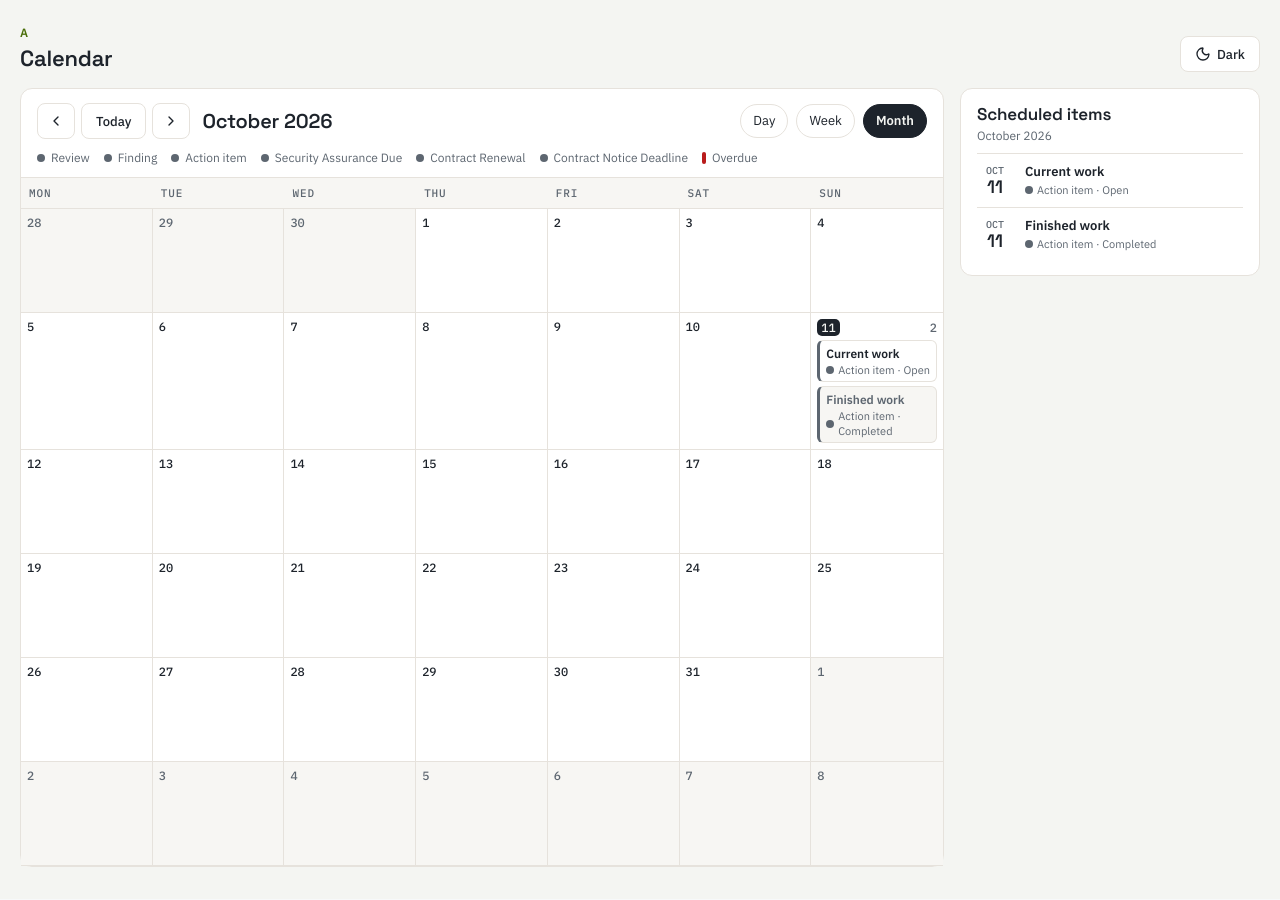
Scenario: Today retains Day and Week views, arrows advance the selected unit
Click the button "Day" at (764, 121), box left=740, top=104, right=788, bottom=138
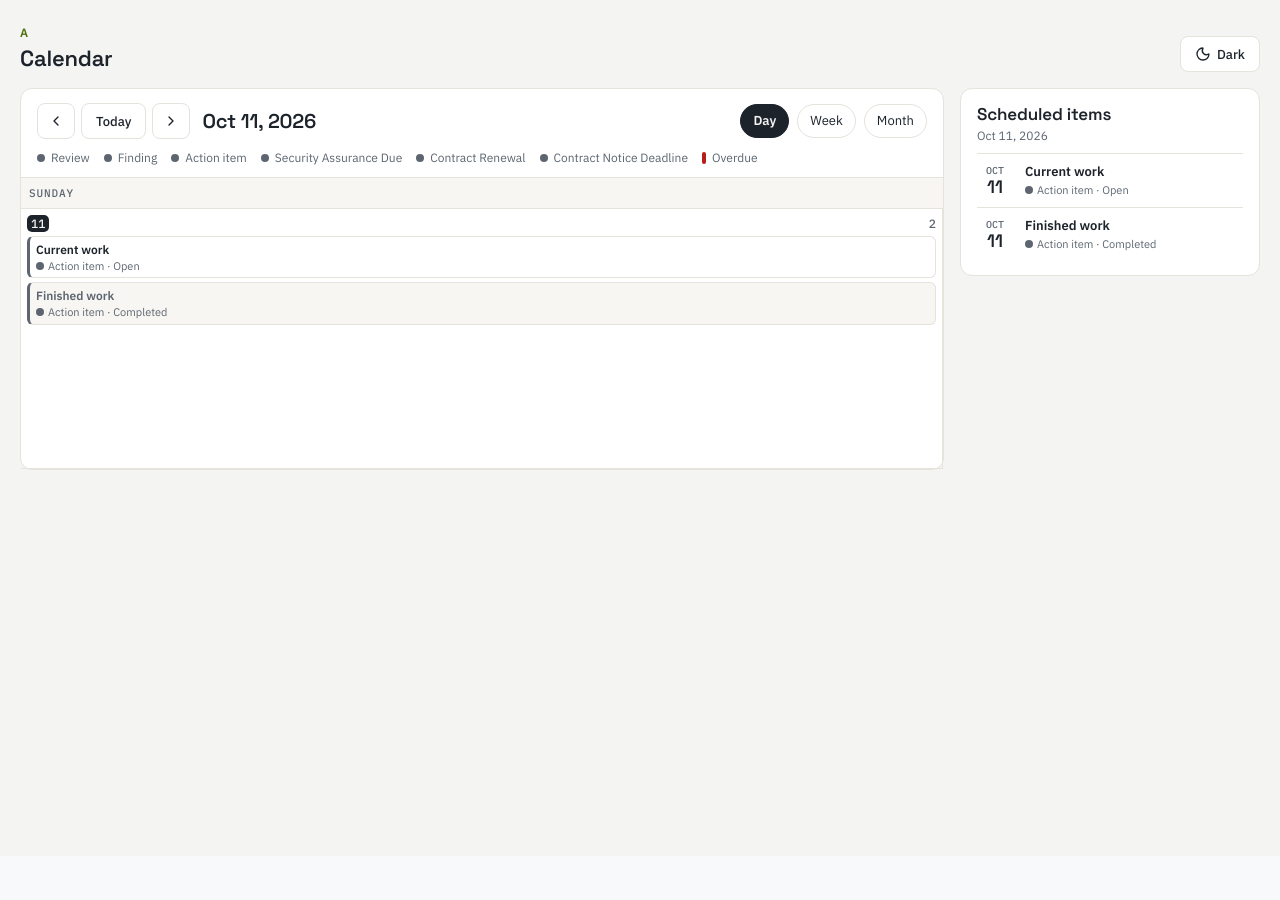
Click the button named "Next day" at (171, 121), box left=152, top=103, right=190, bottom=139
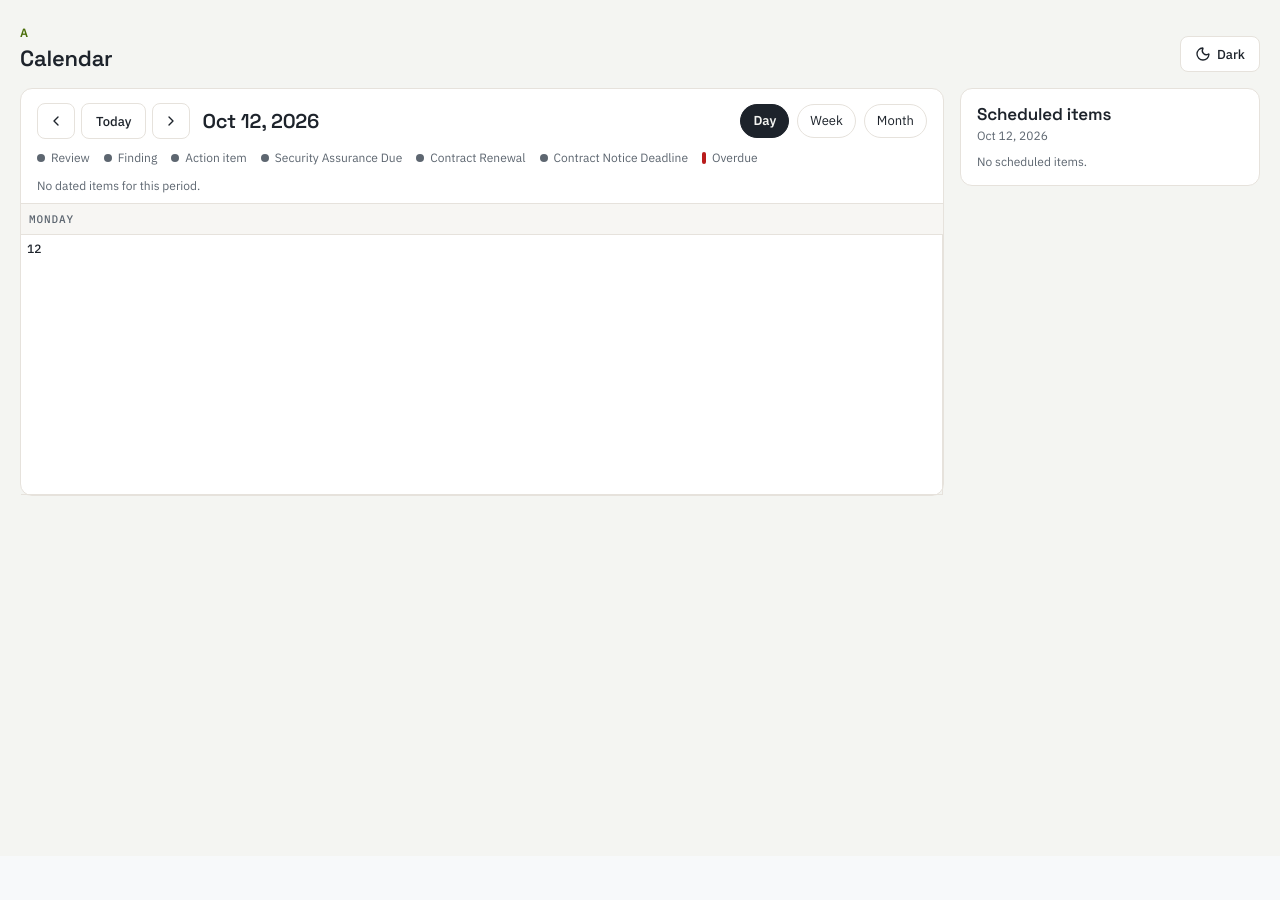
Click the button "Today" at (114, 121), box left=81, top=103, right=146, bottom=139
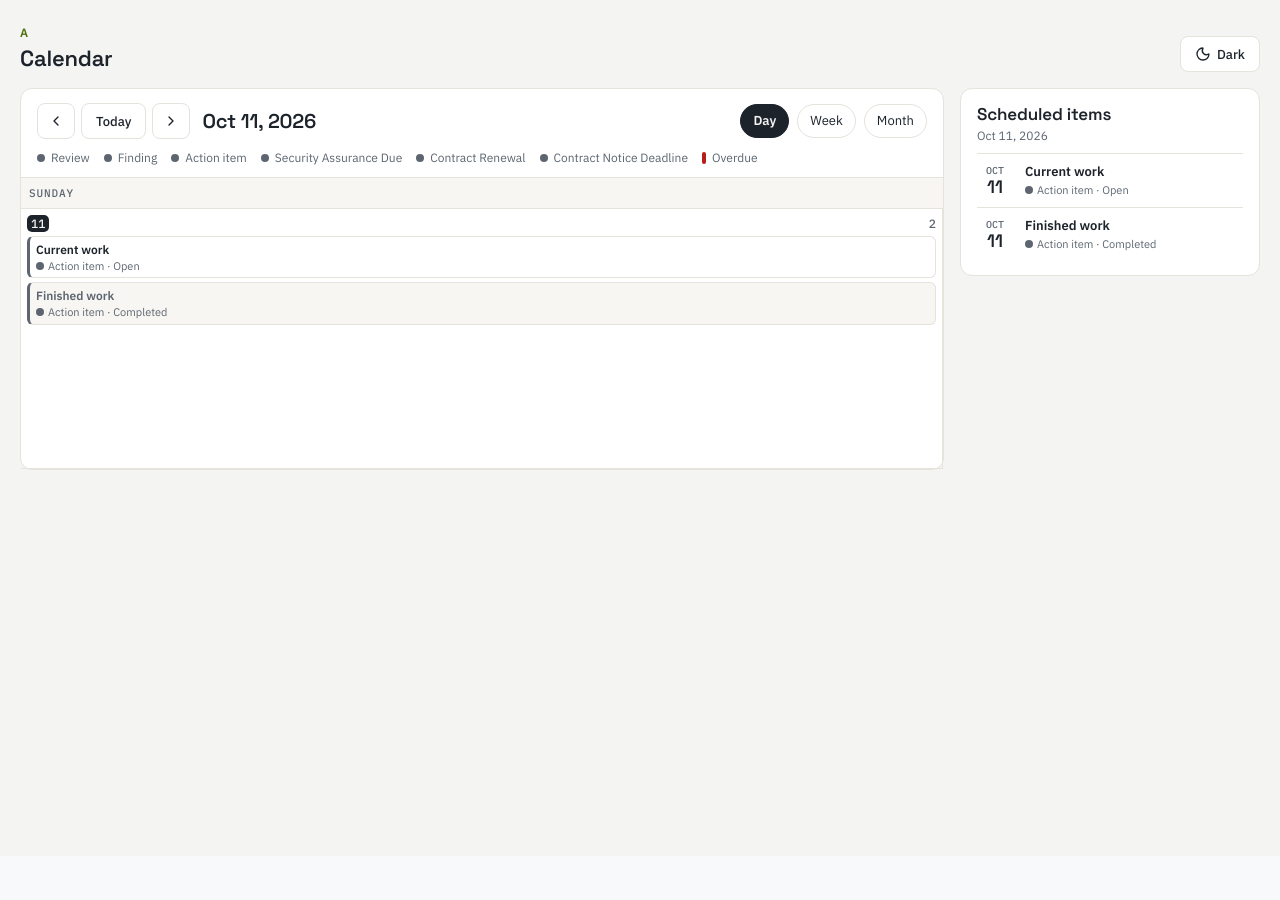
Expected: the button "Day" is pressed, left=740, top=104, right=789, bottom=138
Click the button "Week" at (827, 121), box left=797, top=104, right=856, bottom=138
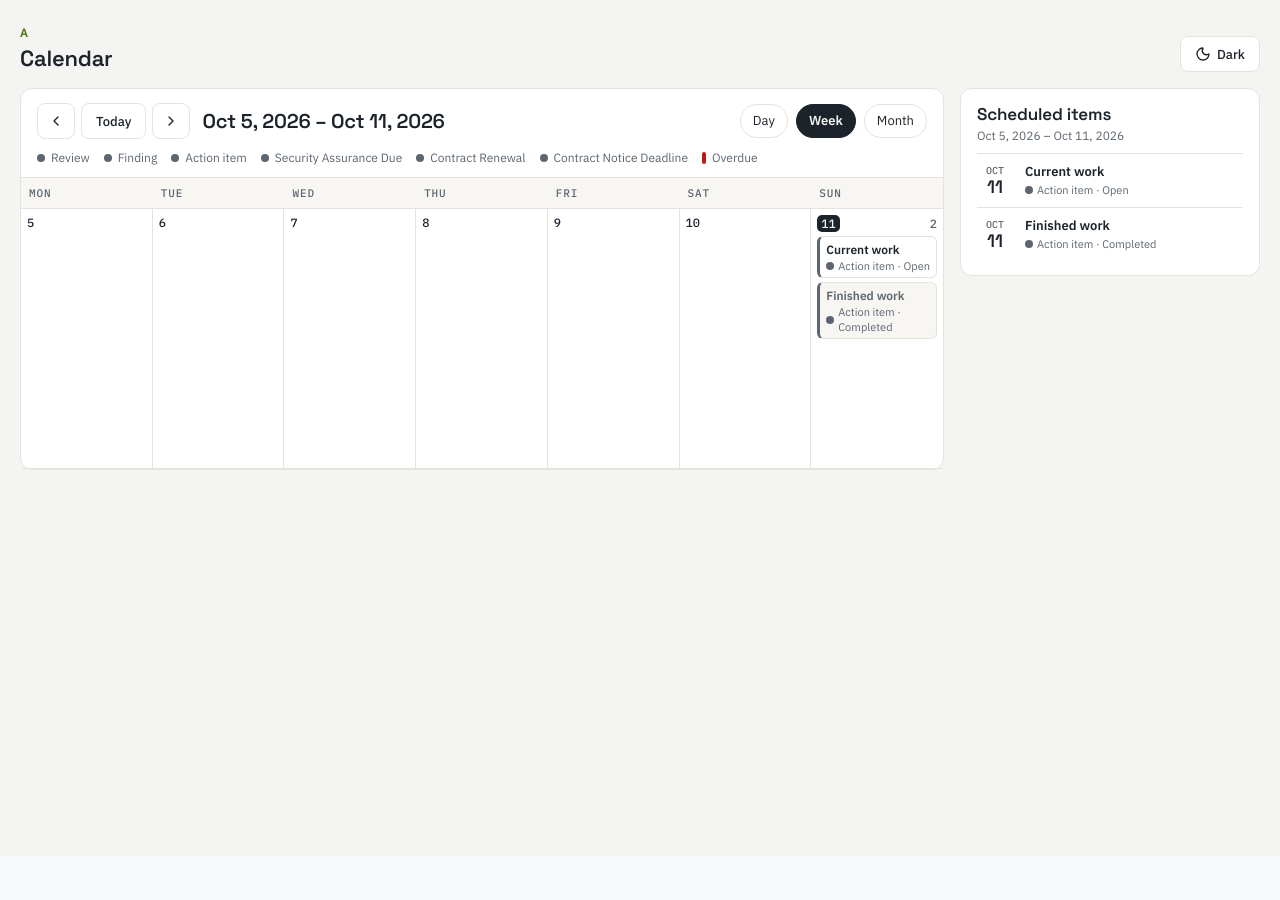
Click the button named "Next week" at (171, 121), box left=152, top=103, right=190, bottom=139
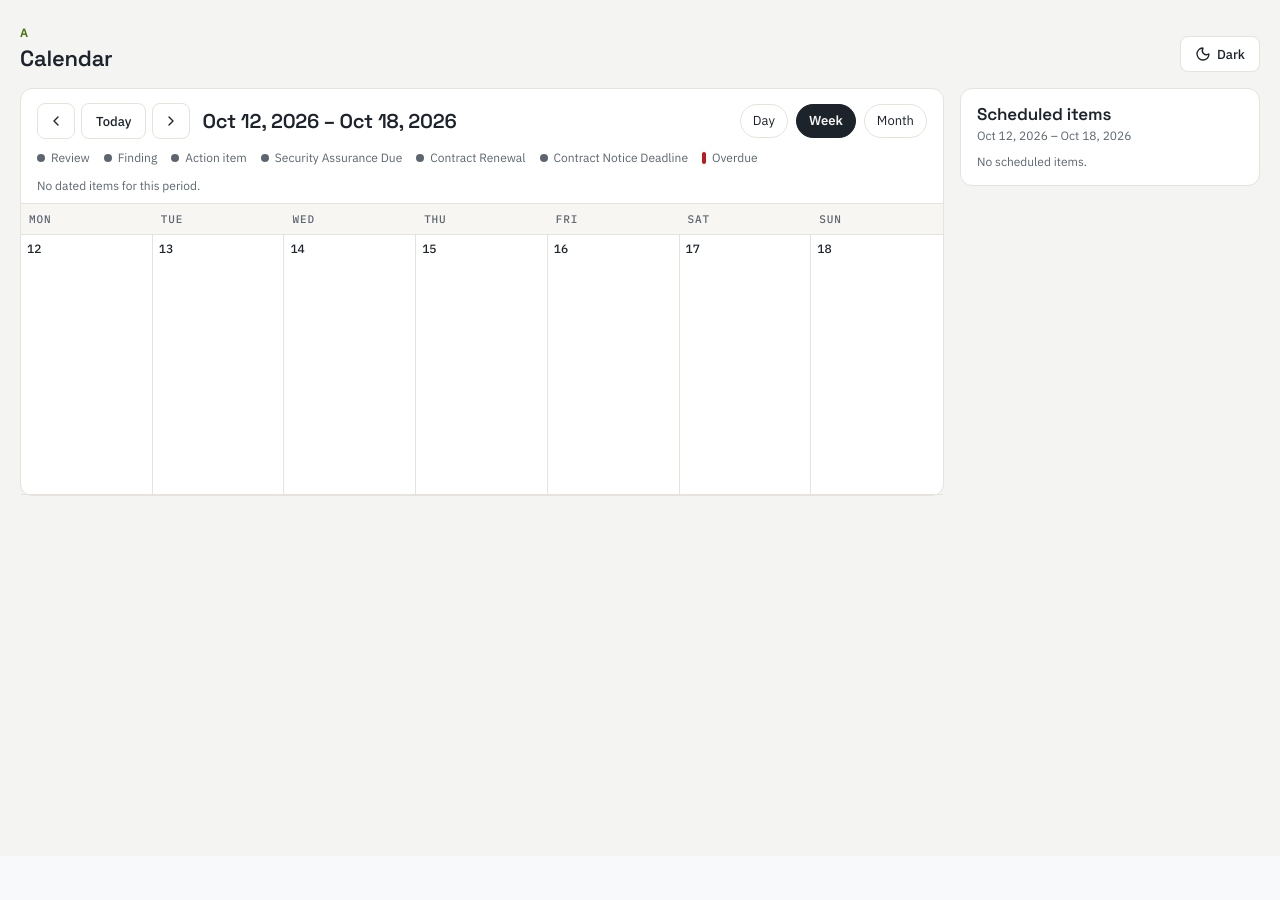
Click the button "Today" at (114, 121), box left=81, top=103, right=146, bottom=139
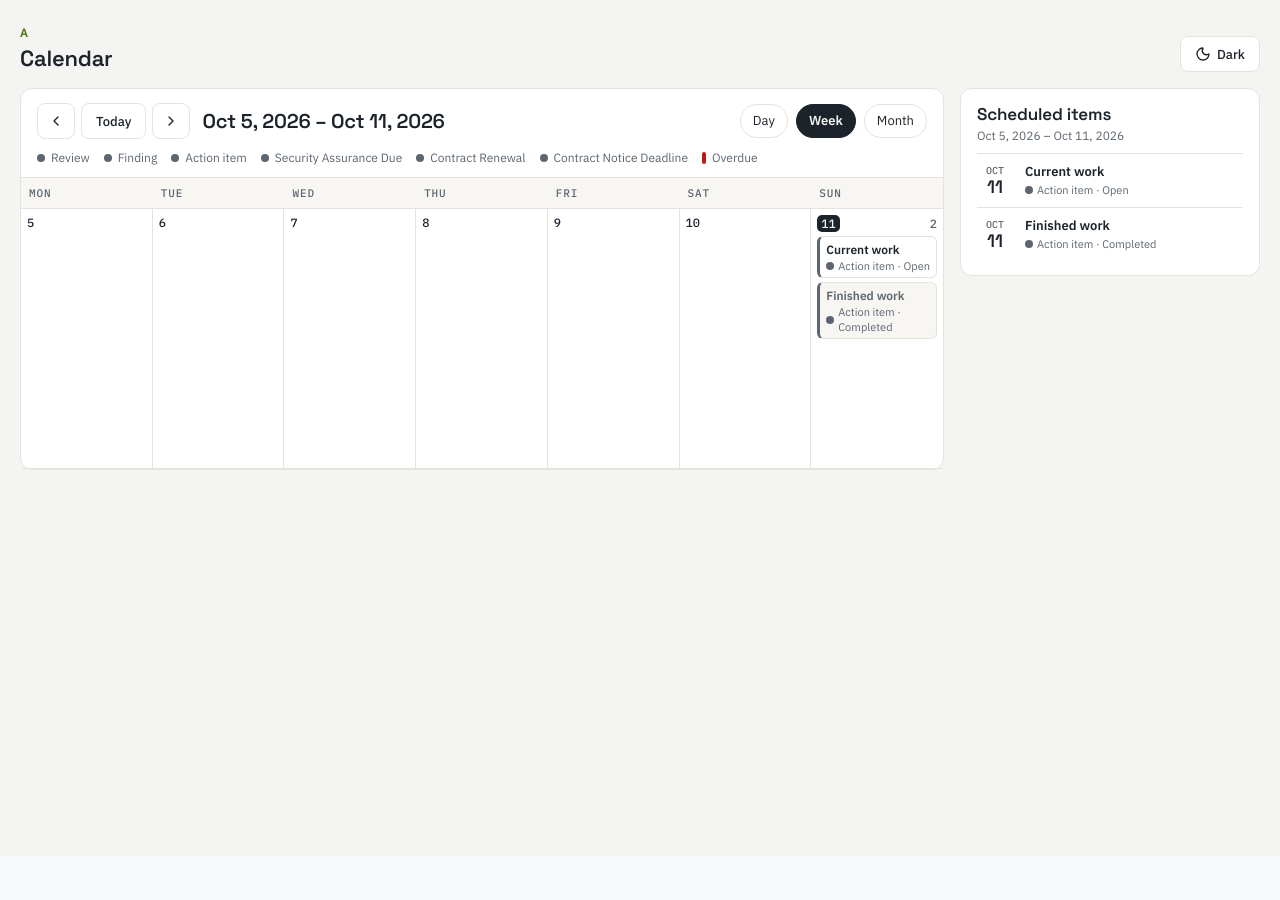
Expected: the button "Week" is pressed, left=796, top=104, right=856, bottom=138
